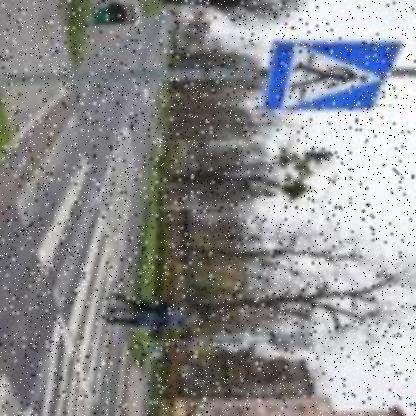Pedestrian Crossing: (262, 40, 399, 110)
